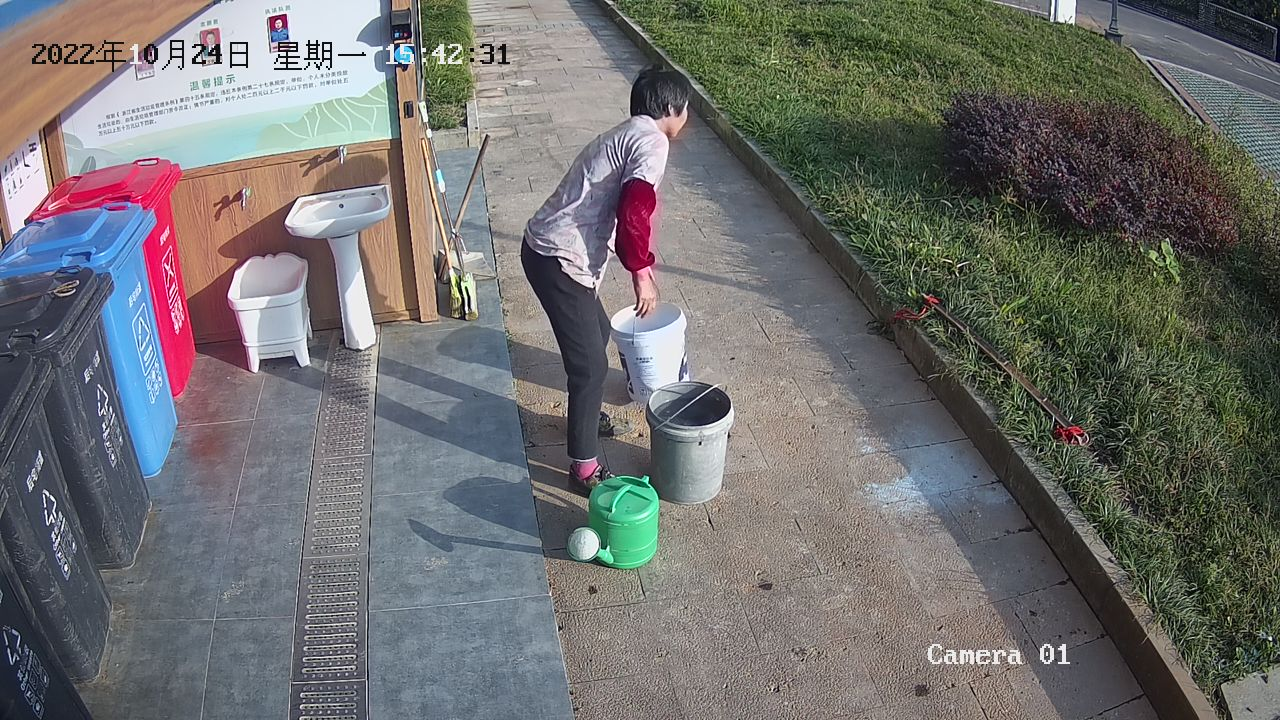person: (512, 62, 696, 500)
youtong: (641, 378, 739, 509), (558, 470, 665, 574), (606, 294, 691, 409)
